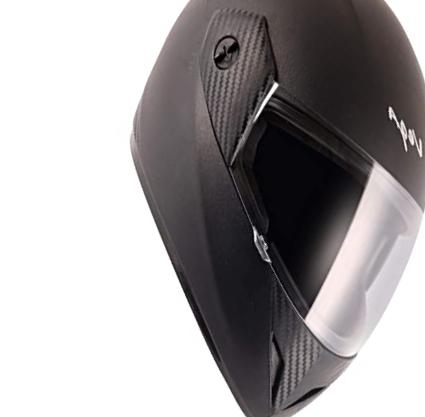helmet: (106, 1, 425, 412)
